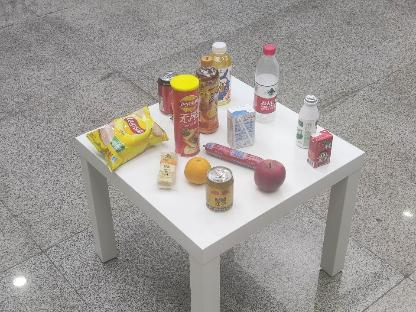Can: (206, 164, 234, 212), (156, 69, 178, 115)
Others: (170, 74, 202, 156), (224, 104, 260, 150), (304, 128, 334, 168)
Plastic Bottle: (248, 40, 282, 126)
